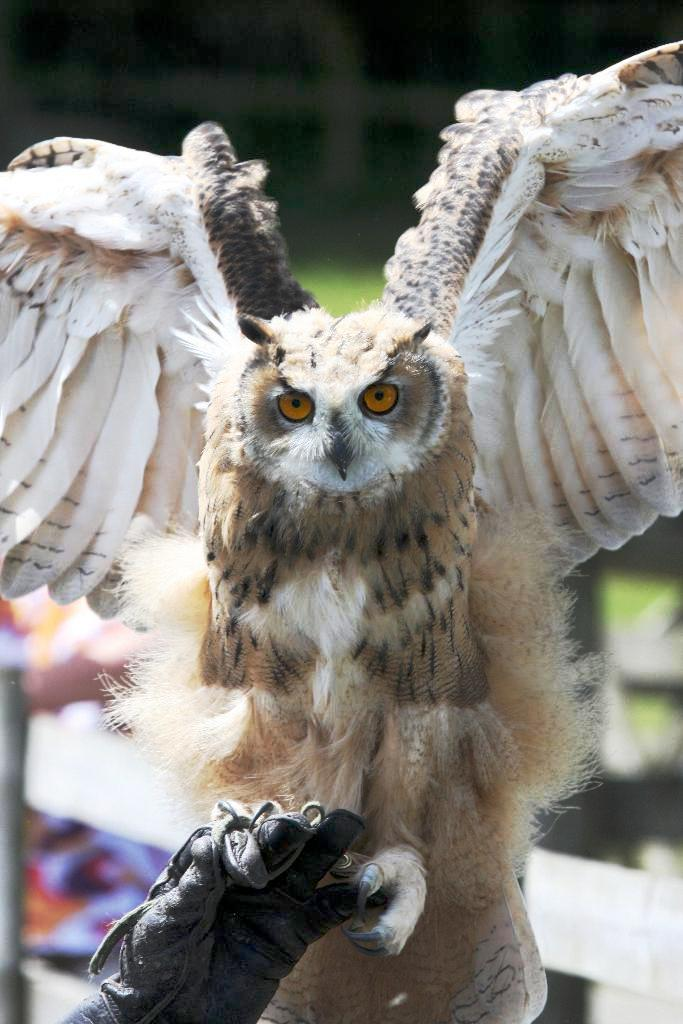Owl: (0, 45, 682, 1023)
